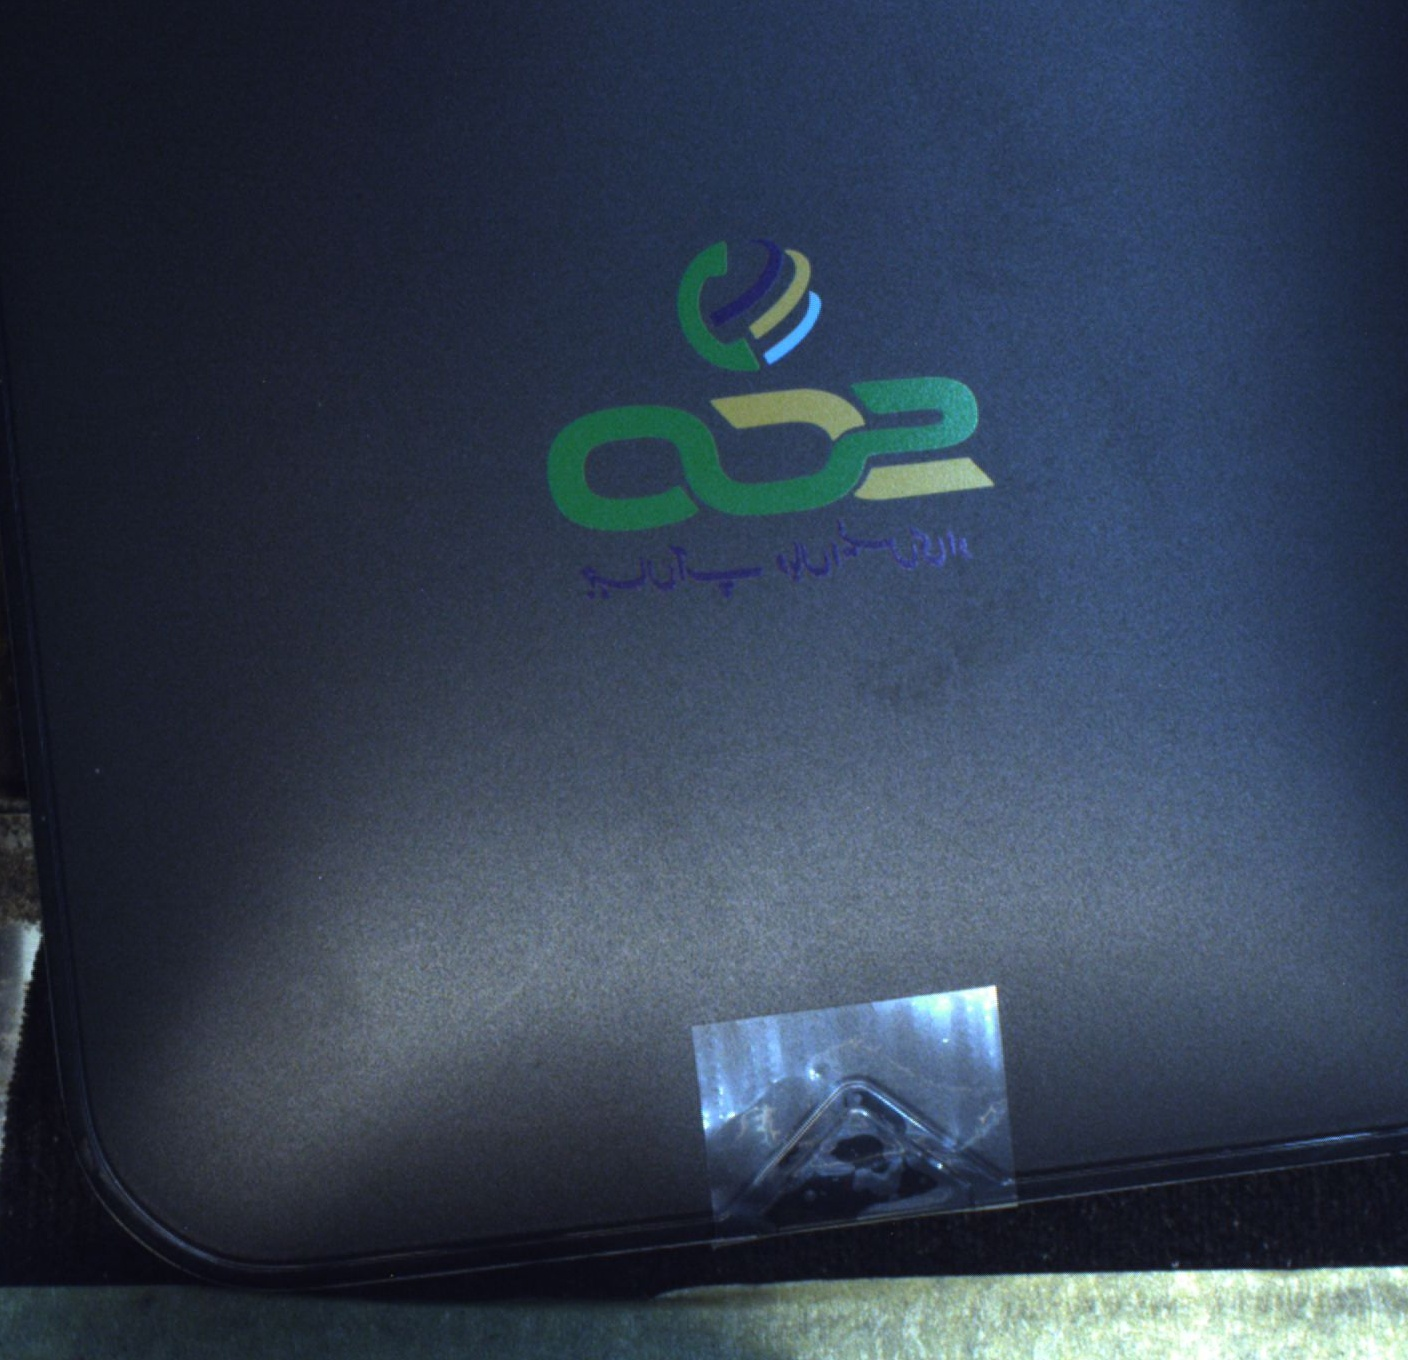BZ_HG680PSCOFirbeHome: (519, 215, 1018, 618)
